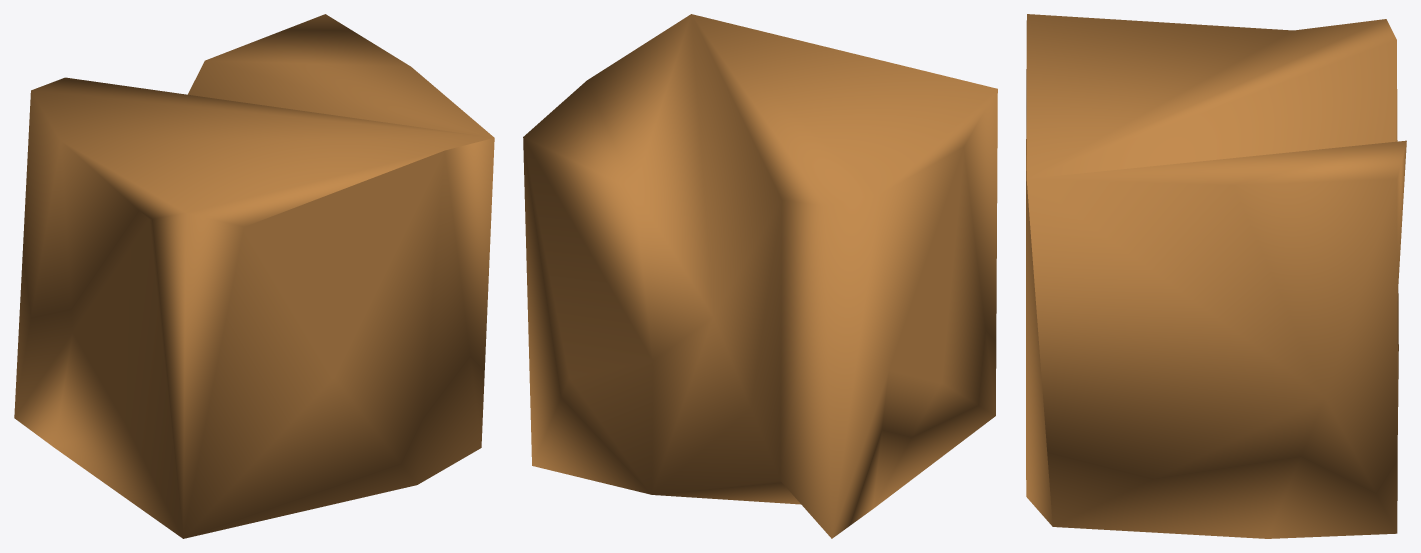
File: ktx.glb
The picture shows the model from 3 angles, left to right: view 1: azimuth 30°, elevation 25°; view 2: azimuth 150°, elevation 25°; view 3: azimuth 270°, elevation 25°; orthographic projection. The views are drawn at different scales.
Parts seen in each view (by area): view 1: tripo_node_1848dc16-8005-4b9b-9683-cf43b4c28d9a; view 2: tripo_node_1848dc16-8005-4b9b-9683-cf43b4c28d9a; view 3: tripo_node_1848dc16-8005-4b9b-9683-cf43b4c28d9a.
Part boxes in pixels (bbox=[...]): tripo_node_1848dc16-8005-4b9b-9683-cf43b4c28d9a: bbox=[14, 14, 494, 538]; tripo_node_1848dc16-8005-4b9b-9683-cf43b4c28d9a: bbox=[523, 14, 997, 538]; tripo_node_1848dc16-8005-4b9b-9683-cf43b4c28d9a: bbox=[1026, 14, 1406, 538].
Size of the model in its own units: 1 by 0.974 by 0.9342.
